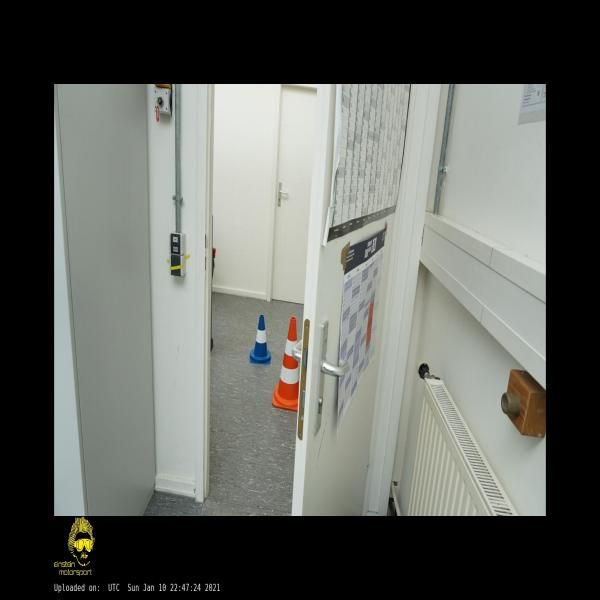blue_cone: (249, 314, 271, 363)
large_orange_cone: (272, 317, 299, 411)
